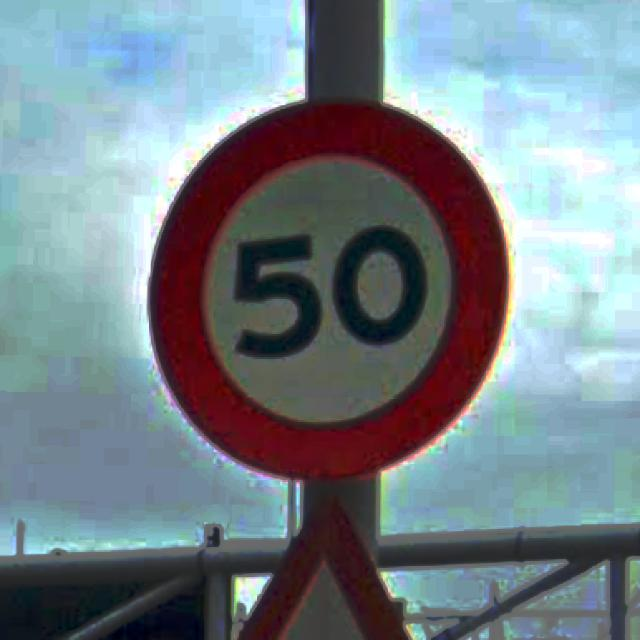max50: (146, 93, 511, 484)
